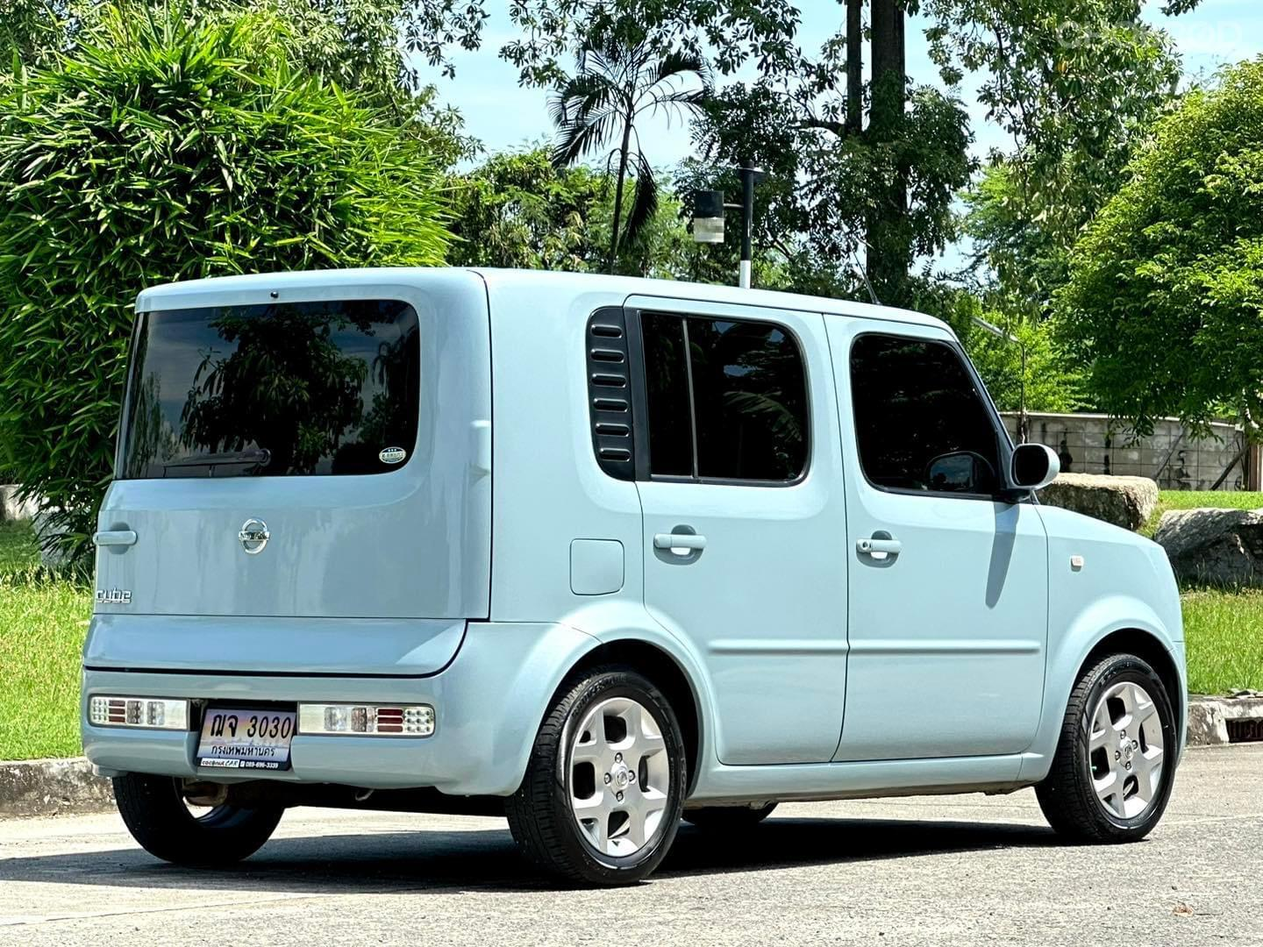license-plate: (180, 677, 299, 792)
